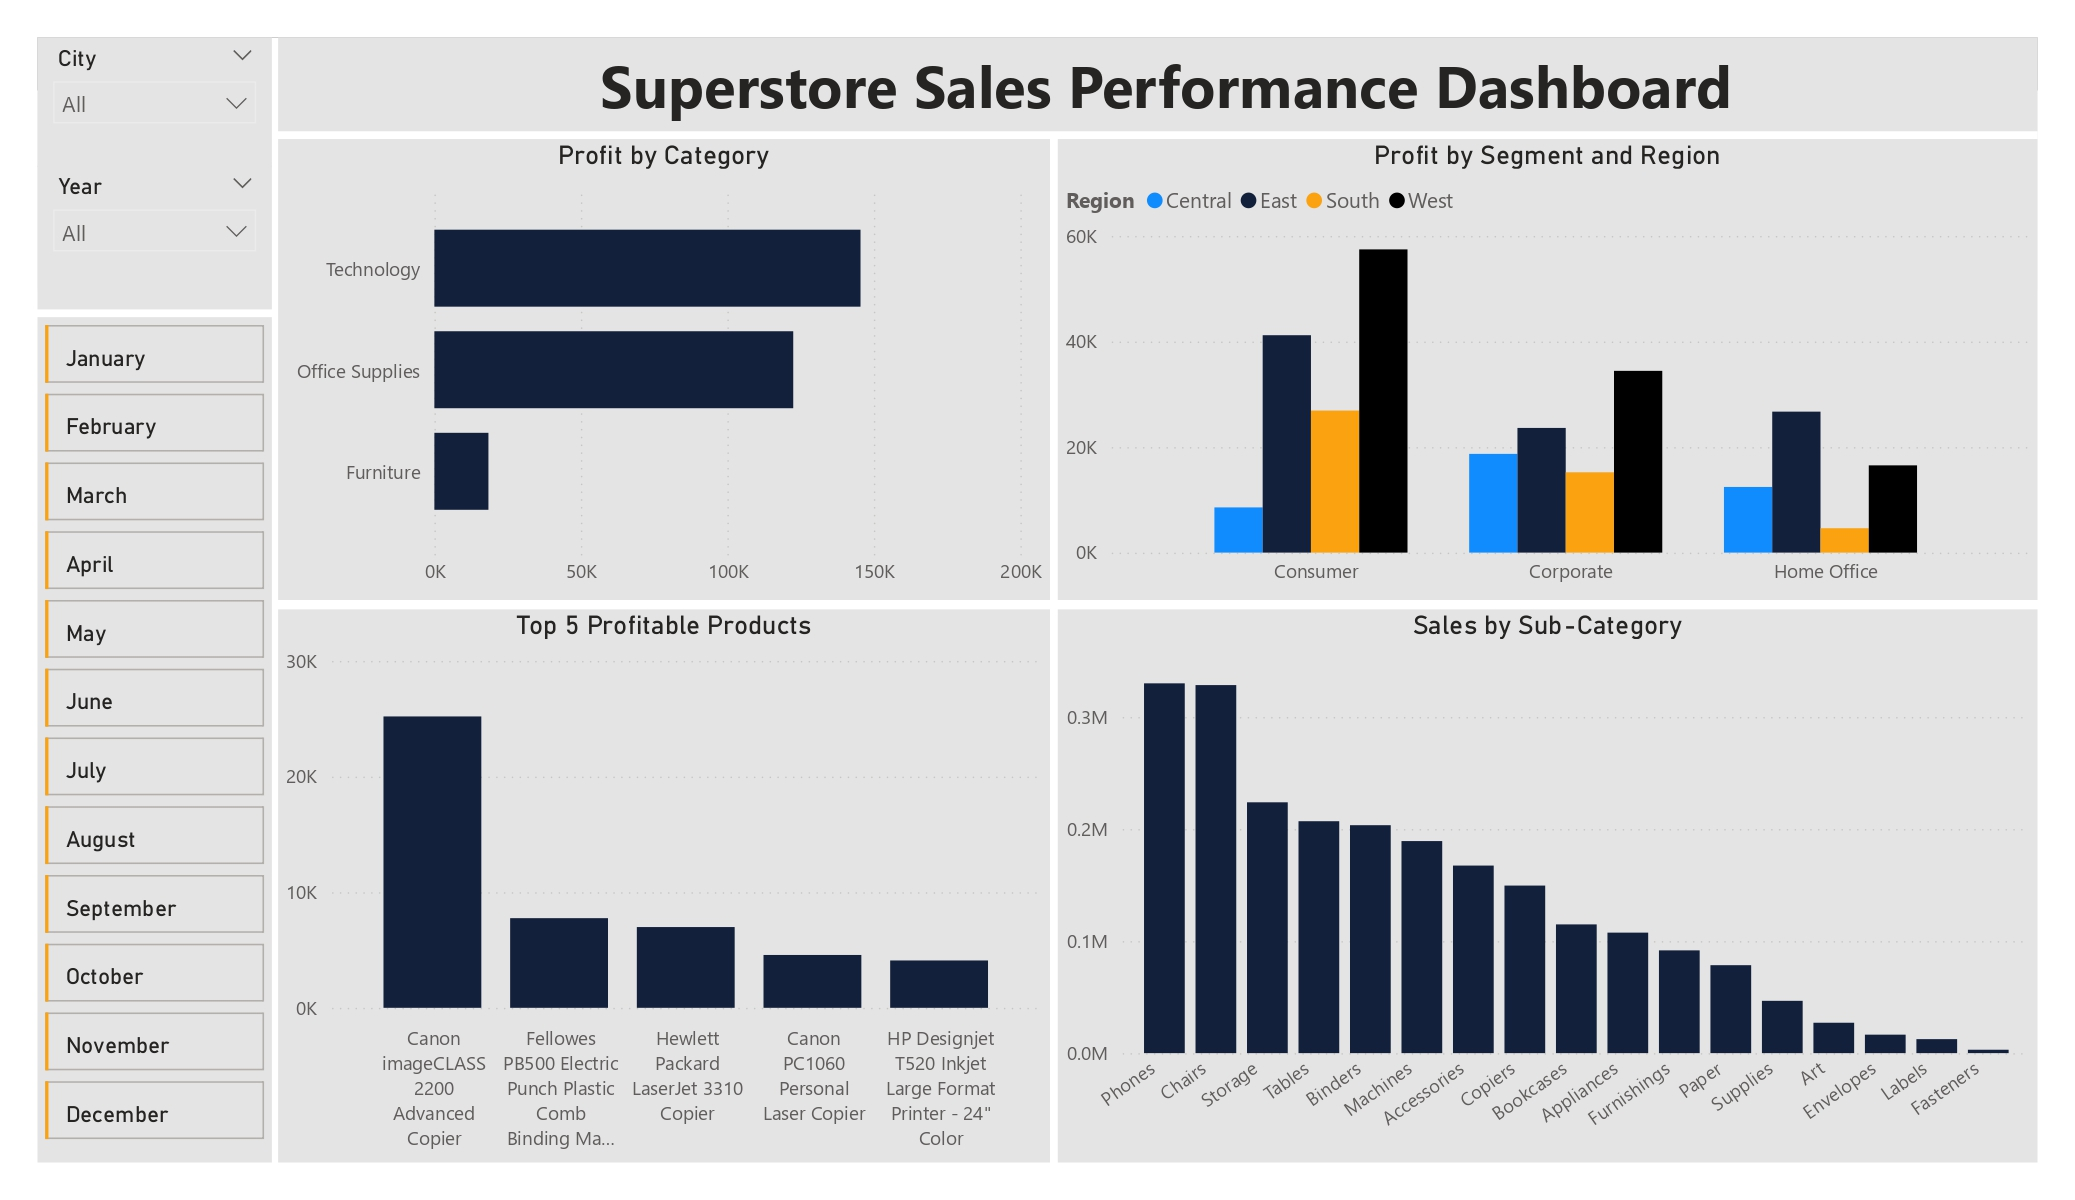

This screenshot's page, from the dashboard's own definition file:
{"tool":"powerbi","page":{"name":"Page 2","canvas":[1280,720],"ordinal":1},"visuals":[{"type":"barChart","title":"Profit by Category","fields":{"Category":["Superstore_Sales_Cleaned.Category"],"Y":["Sum(Superstore_Sales_Cleaned.Profit)"]},"box":[153.8,65.2,494.3,294.8],"z":3000},{"type":"clusteredColumnChart","title":"Top 5 Profitable Products","fields":{"Category":["Superstore_Sales_Cleaned.Product Name"],"Y":["Sum(Superstore_Sales_Cleaned.Profit)"]},"box":[153.8,366.2,494.3,353.8],"z":4000},{"type":"clusteredColumnChart","title":"Sales by Sub-Category","fields":{"Category":["Superstore_Sales_Cleaned.Sub-Category"],"Y":["Sum(Superstore_Sales_Cleaned.Sales)"]},"box":[653.3,366.2,626.7,353.8],"z":5000},{"type":"clusteredColumnChart","title":"Profit by Segment and Region","fields":{"Category":["Superstore_Sales_Cleaned.Segment"],"Y":["Sum(Superstore_Sales_Cleaned.Profit)"],"Series":["Superstore_Sales_Cleaned.Region"]},"box":[653.3,65.2,626.7,294.8],"z":6000},{"type":"textbox","box":[153.8,0,1126.2,59.5],"z":7000},{"type":"advancedSlicerVisual","fields":{"Values":["Superstore_Sales_Cleaned.Order Date.Variation.Date Hierarchy.Month"]},"box":[0,178.6,150,541.4],"z":7002},{"type":"slicer","fields":{"Values":["Superstore_Sales_Cleaned.City"]},"box":[0,0,150,82.5],"z":7003},{"type":"slicer","fields":{"Values":["Superstore_Sales_Cleaned.Order Date.Variation.Date Hierarchy.Year"]},"box":[0,82.4,150,91.9],"z":7004}]}

Visuals, with their boxes in screenshot pixels (x1, y1, x2, y2):
"Profit by Category" barChart: 278, 139, 1050, 600
"Top 5 Profitable Products" clusteredColumnChart: 278, 610, 1050, 1162
"Sales by Sub-Category" clusteredColumnChart: 1058, 610, 2038, 1162
"Profit by Segment and Region" clusteredColumnChart: 1058, 139, 2038, 600
textbox: 278, 38, 2038, 130
advancedSlicerVisual - Superstore_Sales_Cleaned.Order Date.Variation.Date Hierarchy.Month: 38, 317, 272, 1162
slicer - Superstore_Sales_Cleaned.City: 38, 38, 272, 166
slicer - Superstore_Sales_Cleaned.Order Date.Variation.Date Hierarchy.Year: 38, 166, 272, 310
